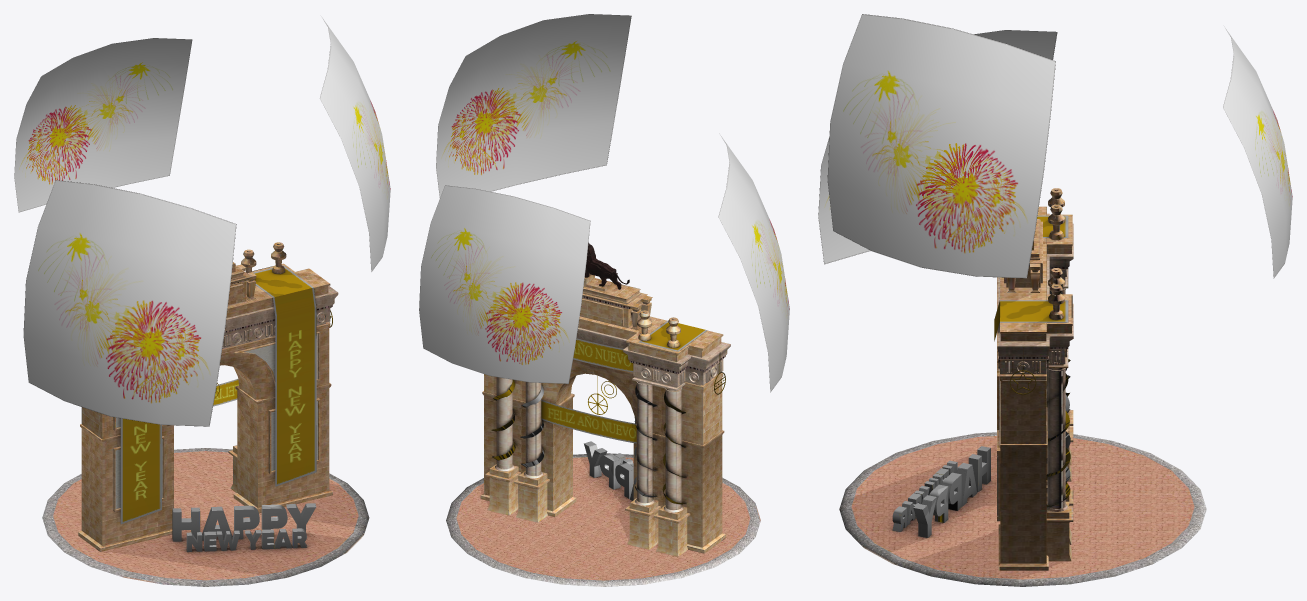
File: nuevo.gltf
3 renders of one model, left to right at view 1: azimuth 30°, elevation 25°; view 2: azimuth 150°, elevation 25°; view 3: azimuth 270°, elevation 25°, orthographic. The views are drawn at different scales.
Parts seen in each view (by area): view 1: HNY_pyrotechnics_2, HNY_BaseArco, HNY_pyrotechnics, HNY_SkinArco, HNY_pyrotechnics_1; view 2: HNY_BaseArco, HNY_pyrotechnics, HNY_pyrotechnics_1, HNY_SkinArco, HNY_pyrotechnics_2, OG_BaseLeon.001; view 3: HNY_BaseArco, HNY_pyrotechnics_1, HNY_SkinArco, HNY_pyrotechnics, HNY_pyrotechnics_2.
Part boxes in pixels (x1,y1,x2,y2): HNY_pyrotechnics_2: (23, 180, 236, 426); HNY_BaseArco: (42, 242, 369, 586); HNY_pyrotechnics: (14, 38, 192, 212); HNY_SkinArco: (120, 265, 332, 552); HNY_pyrotechnics_1: (320, 16, 390, 271); HNY_BaseArco: (446, 273, 760, 586); HNY_pyrotechnics: (419, 185, 590, 383); HNY_pyrotechnics_1: (436, 14, 631, 197); HNY_SkinArco: (491, 321, 725, 504); HNY_pyrotechnics_2: (718, 133, 789, 392); OG_BaseLeon.001: (585, 242, 629, 289); HNY_BaseArco: (839, 188, 1206, 586); HNY_pyrotechnics_1: (827, 14, 1055, 278); HNY_SkinArco: (892, 215, 1070, 537); HNY_pyrotechnics: (1223, 26, 1292, 278); HNY_pyrotechnics_2: (818, 30, 1057, 264).
Bounding box in the file's own units: 502 × 658 × 532.
Materials: 4 (4 with a texture image).
